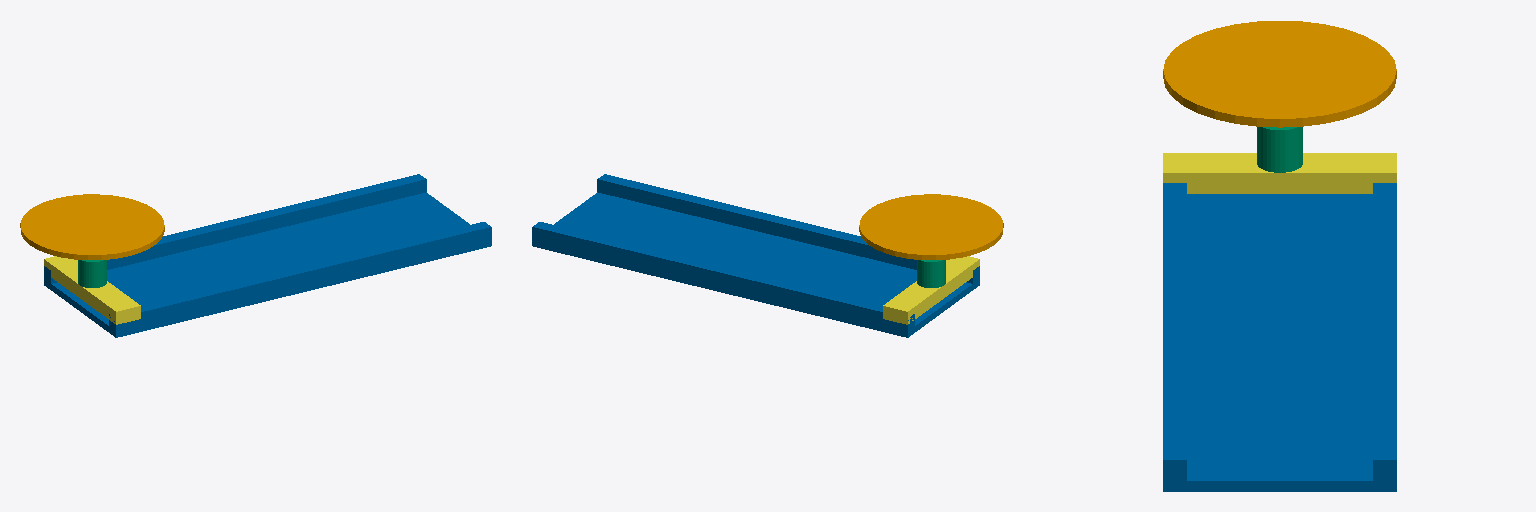
The robot description file, URDF, robot "stand":
<?xml version="1.0"?>
<robot name="stand">

<!-- LINKS -->

  <link name="plate">
    <inertial>
      <mass value="5"/>
      <origin rpy="0  0  0" xyz="0  0  0.18"/>
      <inertia ixx="0.313" ixy="0" ixz="0" iyy="0.313" iyz="0" izz="0.625"/>                     
    </inertial>
    <visual>
      <origin rpy="0  0  0" xyz="0 0 0.12"/>
      <geometry>
        <cylinder length="0.04" radius="0.5"/> 
      </geometry>
    </visual>
    <visual>
      <origin rpy="0  0  0" xyz="0 0 0.05"/>
      <geometry>
        <cylinder length="0.1" radius="0.1"/> 
      </geometry>
    </visual>
    <collision>
      <origin rpy="0  0  0" xyz="0 0 0.12"/>
      <geometry>
        <cylinder length="0.04" radius="0.5"/> 
      </geometry>
    </collision>
  </link>

  <link name="ball">
    <inertial>
      <mass value="1"/>
      <origin rpy="0  0  0" xyz="0  0  0"/>
      <inertia ixx="0.004" ixy="0" ixz="0" iyy="0.004" iyz="0" izz="0.004"/>                     
    </inertial>
    <visual>
      <origin rpy="0  0  0" xyz="0 0 0"/>
      <geometry>
        <sphere radius="0.1"/> 
      </geometry>
    </visual>
  </link>

  <link name="post">
    <inertial>
      <mass value="1"/>
      <origin rpy="0  0  0" xyz="0  0  0"/>
      <inertia ixx="0.001" ixy="0" ixz="0" iyy="0.001" iyz="0" izz="0.001"/>                     
    </inertial>
    <visual>
      <origin rpy="0  0  0" xyz="0 0 0.1"/>
      <geometry>
        <cylinder length="0.2" radius="0.1"/> 
      </geometry>
    </visual>
  </link>

  <link name="bridge">
    <inertial>
      <mass value="1"/>
      <origin rpy="0  0  0" xyz="0  0  0"/>
      <inertia ixx="0.001" ixy="0" ixz="0" iyy="0.001" iyz="0" izz="0.001"/>                     
    </inertial>
    <visual>
      <origin rpy="0  0  0" xyz="0 0 0"/>
      <geometry>
        <box size="0.2 1.002 0.1"/> 
      </geometry>
    </visual>
  </link>

  <link name="base">
    <inertial>
      <mass value="10"/>
      <origin rpy="0  0  0" xyz="0  0  0.025"/>
      <inertia ixx="1" ixy="0" ixz="0" iyy="1" iyz="0" izz="1"/>                     
    </inertial>
    <visual>
      <origin rpy="0  0  0" xyz="1.4 0 0.025"/>
      <geometry>
        <box size="3 1 0.05"/> 
      </geometry>
    </visual>
    <visual>
      <origin rpy="0  0  0" xyz="1.4 0.45 0.1"/>
      <geometry>
        <box size="3 0.1 0.1"/> 
      </geometry>
    </visual>
    <visual>
      <origin rpy="0  0  0" xyz="1.4 -0.45 0.1"/>
      <geometry>
        <box size="3 0.1 0.1"/> 
      </geometry>
    </visual>
    <collision>
      <origin rpy="0  0  0" xyz="1.4 0 0.025"/>
      <geometry>
        <box size="3 1 0.05"/> 
      </geometry>
    </collision>
  </link>

  <gazebo reference="plate">
    <kp>1000000.0</kp>
    <kd>1.0</kd>
    <mu1>0.9</mu1>
    <mu2>0.9</mu2>
    <dampingFactor>0</dampingFactor>
    <fdir1>0 0 0</fdir1>
    <maxVel>50</maxVel>
    <minDepth>0.001</minDepth>
    <maxContacts>5</maxContacts>
    <material>PR2/Grey2</material> 
  </gazebo> 

  <gazebo reference="ball">
    <material>Gazebo/DarkGrey</material> 
  </gazebo> 

  <gazebo reference="base">
    <material>Gazebo/White</material> 
  </gazebo> 

  <gazebo reference="bridge">
    <material>Gazebo/Grey</material> 
  </gazebo> 

  <gazebo reference="post">
    <material>Gazebo/White</material> 
  </gazebo> 

<!-- JOINTS -->
  <joint name="stand_x" type="prismatic">
    <parent link="base"/>
    <child link="bridge"/>
    <origin rpy="0      0      0" xyz="0   0  0.15"/>
    <axis xyz="1  0  0"/>
    <limit effort="1000.0" lower="0" upper="2.8" velocity="10.0"/>
  </joint>

  <joint name="stand_y" type="prismatic">
    <parent link="bridge"/>
    <child link="post"/>
    <origin rpy="0      0      0" xyz="0   0  0.05"/>
    <axis xyz="0  1  0"/>
    <limit effort="1000.0" lower="-0.5" upper="0.5" velocity="10.0"/>
  </joint>

  <joint name="post_p" type="revolute">
    <parent link="post"/>
    <child link="ball"/>
    <origin rpy="0      0      0" xyz="0   0  0.3"/>
    <axis xyz="0  1  0"/>
    <limit effort="1000.0" lower="-0.7" upper="0.7" velocity="10.0"/>   <!-- 1.79769e+308 -->
  </joint>

  <joint name="post_r" type="revolute">
    <parent link="ball"/>
    <child link="plate"/>
    <origin rpy="0      0      0" xyz="0   0  0"/>
    <axis xyz="1  0  0"/>
    <limit effort="1000.0" lower="-0.7" upper="0.7" velocity="10.0"/>
  </joint>

  <link name="world"/>
  <joint name="world_joint" type="fixed">
    <parent link="world"/>
    <child link="base"/>
    <origin rpy="0  0  0" xyz="0  0  0"/>
  </joint> 

<!-- TRANSMISSIONS -->
  <transmission name="stand_x_trans">
    <type>transmission_interface/SimpleTransmission</type>
    <actuator name="stand_x_motor">
      <mechanicalReduction>1</mechanicalReduction>
    </actuator>
    <joint name="stand_x">
      <hardwareInterface>hardware_interface/EffortJointInterface</hardwareInterface>
    </joint>
  </transmission>

  <transmission name="stand_y_trans">
    <type>transmission_interface/SimpleTransmission</type>
    <actuator name="stand_y_motor">
      <mechanicalReduction>1</mechanicalReduction>
    </actuator>
    <joint name="stand_y">
      <hardwareInterface>hardware_interface/EffortJointInterface</hardwareInterface>
    </joint>
  </transmission>

  <transmission name="post_r_trans">
    <type>transmission_interface/SimpleTransmission</type>
    <actuator name="post_r_motor">
      <mechanicalReduction>1</mechanicalReduction>
    </actuator>
    <joint name="post_r">
      <hardwareInterface>hardware_interface/EffortJointInterface</hardwareInterface>
    </joint>
  </transmission>

  <transmission name="post_p_trans">
    <type>transmission_interface/SimpleTransmission</type>
    <actuator name="post_p_motor">
      <mechanicalReduction>1</mechanicalReduction>
    </actuator>
    <joint name="post_p">
      <hardwareInterface>hardware_interface/EffortJointInterface</hardwareInterface>
    </joint>
  </transmission>

<!-- GAZEBO PLUGINS-->
  <gazebo>
    <plugin name="gazebo_ros_control" filename="libgazebo_ros_control.so">
      <robotNamespace>/stand</robotNamespace>
      <legacyModeNS>true</legacyModeNS>
      <!-- robotSimType>gazebo_ros_control/DefaultRobotHWSim</robotSimType -->
      <!-- robotParam>/balancer/robot_description</robotParam -->
    </plugin>
  </gazebo>

</robot>

--- Render facts (derived) ---
3 views of the same robot in one strip: view 1: azimuth 30°, elevation 25°; view 2: azimuth 150°, elevation 25°; view 3: azimuth 270°, elevation 25° (orthographic).
Model stand with 6 links and 5 joints (2 revolute, 2 prismatic, 1 fixed), rooted at world, posed every joint at zero.
Visible links, largest first — view 1: base, plate, bridge, post; view 2: base, plate, bridge, post; view 3: base, plate, bridge, post.
Link boxes in pixels (bbox=[...]): base: bbox=[44, 174, 491, 337]; plate: bbox=[20, 194, 164, 259]; bridge: bbox=[44, 256, 140, 324]; post: bbox=[78, 260, 106, 287]; base: bbox=[532, 174, 979, 337]; plate: bbox=[859, 194, 1003, 259]; bridge: bbox=[883, 256, 979, 324]; post: bbox=[917, 260, 945, 287]; base: bbox=[1163, 183, 1396, 491]; plate: bbox=[1163, 21, 1396, 127]; bridge: bbox=[1163, 153, 1396, 193]; post: bbox=[1257, 127, 1302, 172].
Size in the robot's own frame: 3.4 by 1 by 0.64 metres.
Geometry: primitives only (box / cylinder / sphere), no mesh files.
